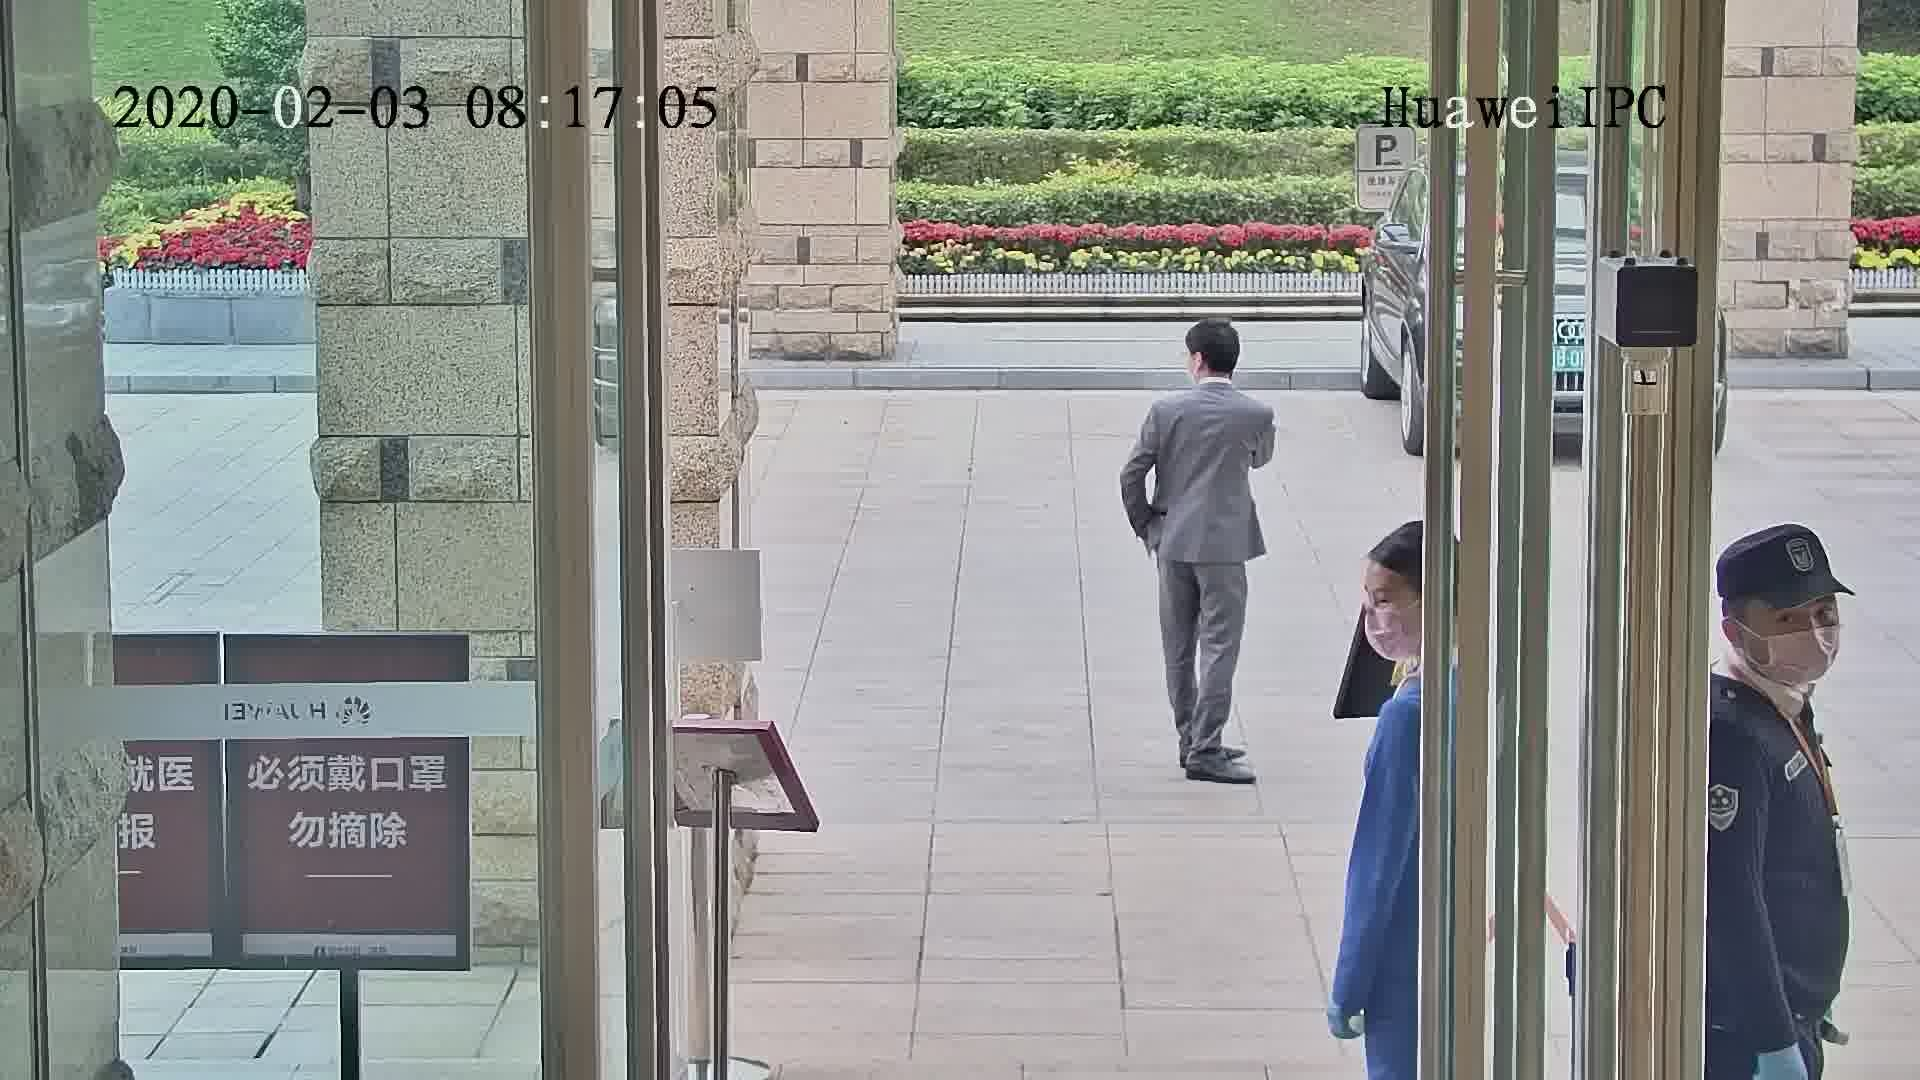face: (1756, 602, 1838, 691), (1353, 581, 1428, 656)
mask: (1771, 626, 1840, 689), (1363, 600, 1420, 666)
person: (1702, 516, 1864, 793), (1143, 315, 1271, 443), (1349, 513, 1432, 710)
